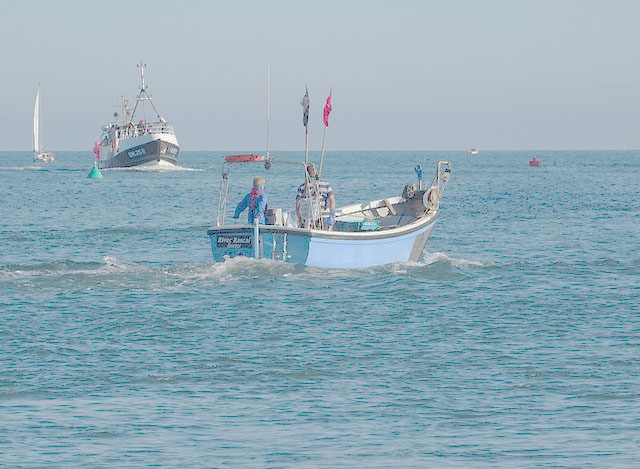fishing_boat: (209, 97, 450, 271), (97, 61, 181, 169)
